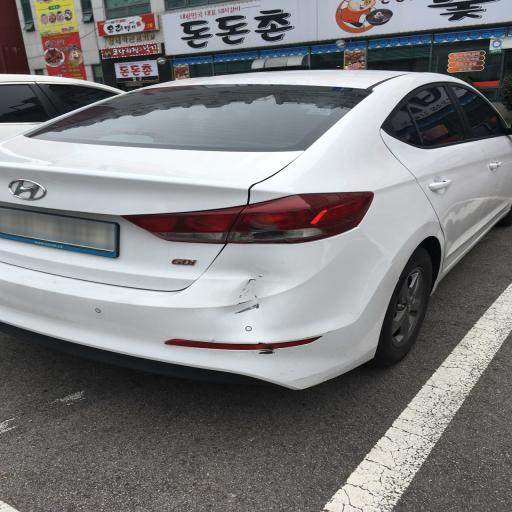scratch: (199, 262, 317, 367)
